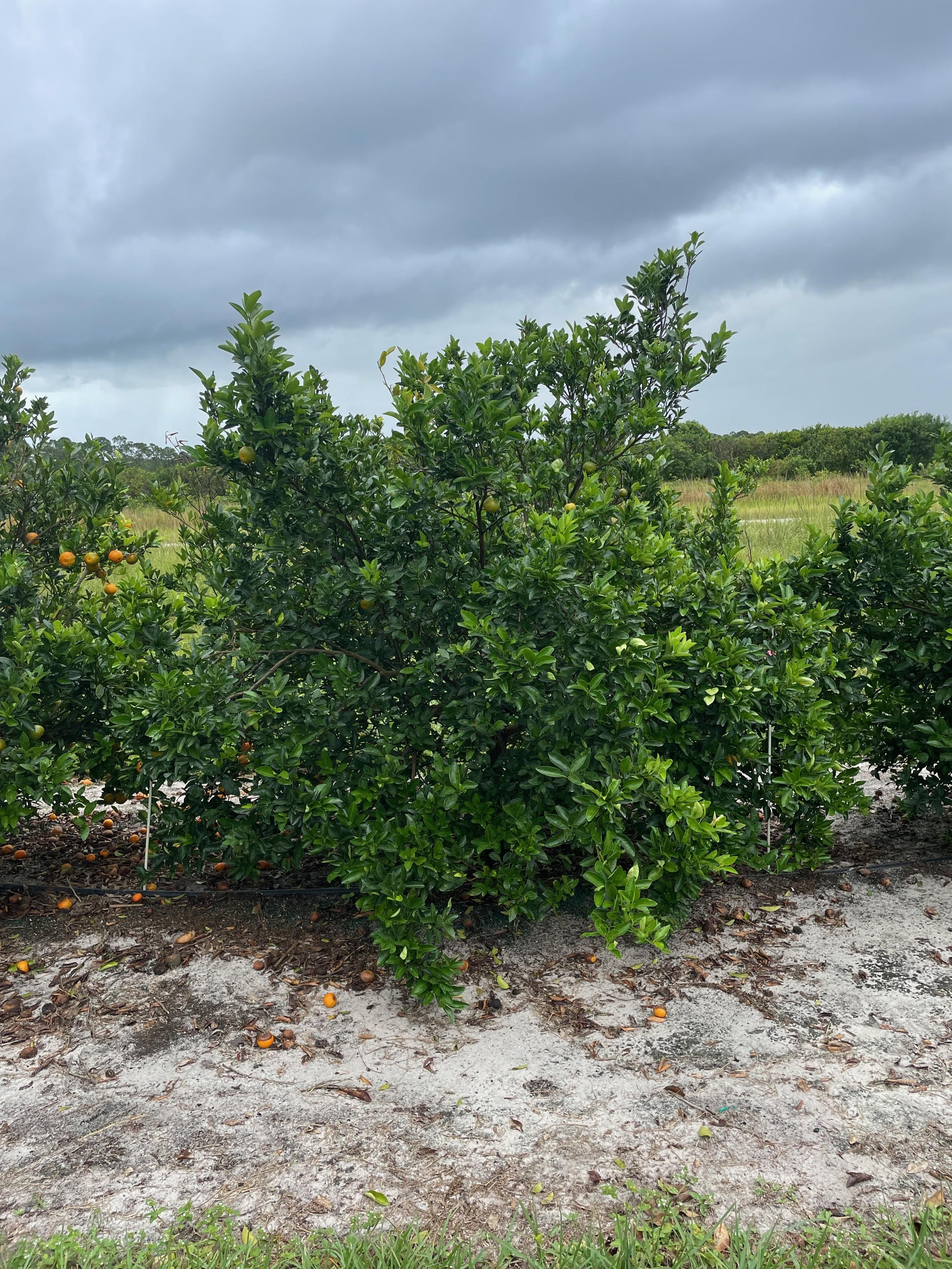fruit_on_ground: (481, 494, 502, 515), (236, 445, 258, 465), (358, 593, 378, 612), (58, 550, 77, 569), (27, 722, 46, 740), (107, 547, 124, 565), (24, 531, 42, 547), (135, 759, 153, 774), (84, 551, 100, 567), (723, 753, 739, 768), (581, 460, 598, 474), (117, 518, 133, 532), (85, 559, 101, 573), (103, 582, 118, 596), (125, 551, 139, 566), (114, 791, 128, 805), (240, 739, 254, 752), (11, 477, 25, 490), (563, 501, 577, 514), (236, 753, 249, 766), (103, 792, 116, 805), (95, 567, 108, 580), (0, 734, 9, 752), (12, 385, 23, 396), (617, 488, 629, 498)
fruit_on_tree: (256, 1030, 274, 1048), (650, 1003, 668, 1020), (321, 990, 338, 1008), (359, 967, 376, 984), (455, 956, 471, 972), (14, 958, 31, 973), (178, 930, 196, 944), (839, 878, 854, 892), (281, 1026, 296, 1040), (252, 956, 266, 971), (57, 897, 73, 910), (878, 874, 892, 888), (741, 876, 756, 889), (49, 824, 65, 836), (14, 847, 28, 860), (60, 861, 73, 874), (102, 816, 115, 829), (2, 842, 15, 855), (251, 902, 263, 914), (308, 910, 320, 922), (128, 832, 140, 844), (256, 858, 269, 869), (214, 860, 227, 871), (586, 952, 598, 963), (216, 879, 228, 890), (146, 879, 158, 890), (131, 891, 143, 902), (134, 791, 145, 801), (47, 811, 58, 821), (84, 853, 96, 862), (138, 824, 148, 834), (138, 790, 149, 799), (99, 847, 110, 856)
